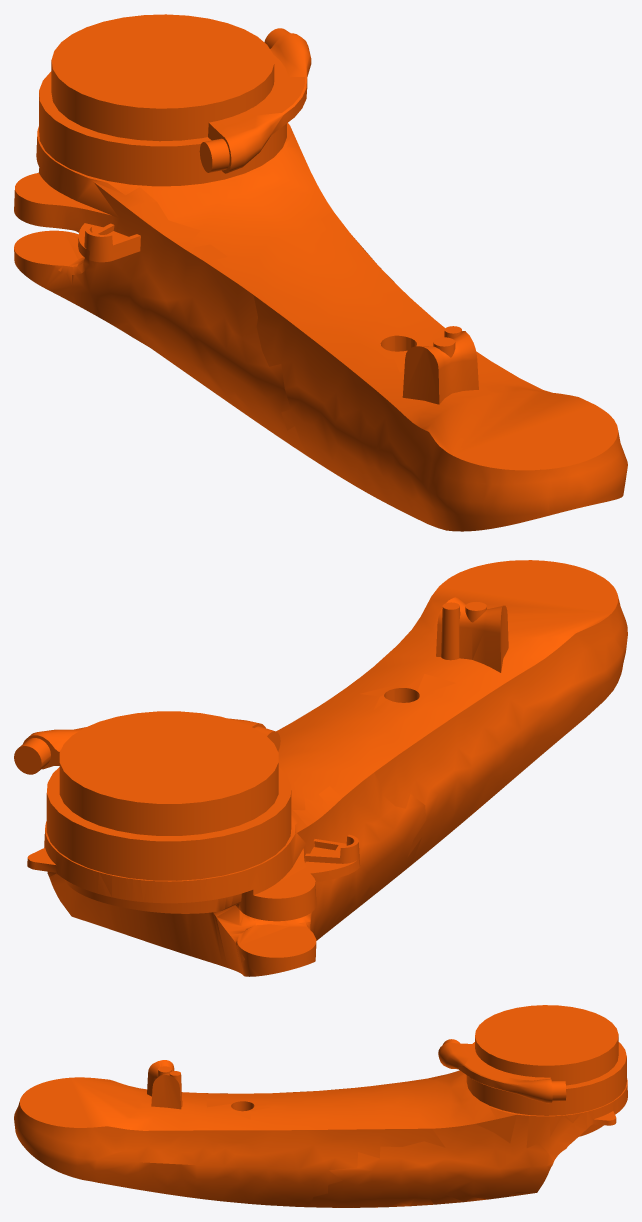
The picture shows the model from 3 angles, top to bottom: view 1: azimuth 30°, elevation 25°; view 2: azimuth 150°, elevation 25°; view 3: azimuth 270°, elevation 25°; orthographic projection. The views are drawn at different scales.
Visible parts, largest first — view 1: KR300_R2500_ultra_2; view 2: KR300_R2500_ultra_2; view 3: KR300_R2500_ultra_2.
Boxes of the visible parts, bbox=[...] form: KR300_R2500_ultra_2: bbox=[14, 14, 627, 531]; KR300_R2500_ultra_2: bbox=[14, 560, 627, 976]; KR300_R2500_ultra_2: bbox=[14, 1005, 627, 1207].
Size of the model in its own units: 0.5304 by 0.4332 by 1.51.
